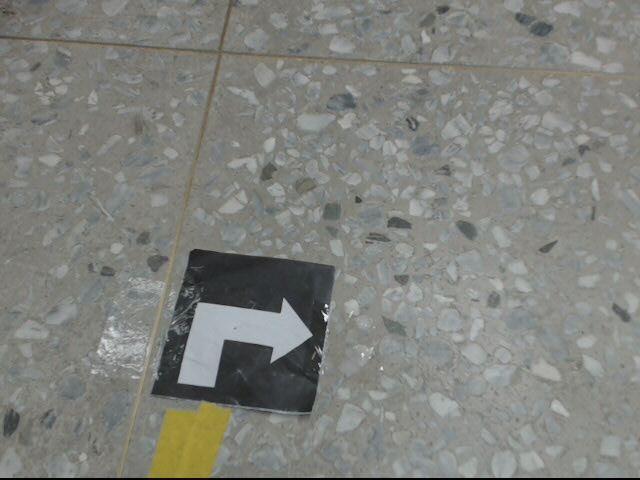right: (149, 246, 337, 417)
